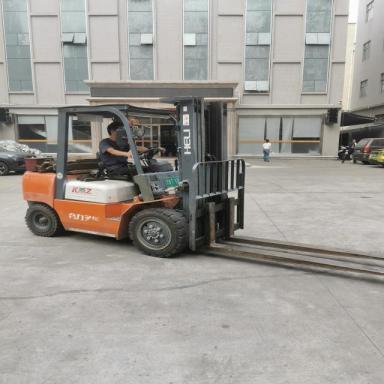forklift: (19, 91, 384, 283)
